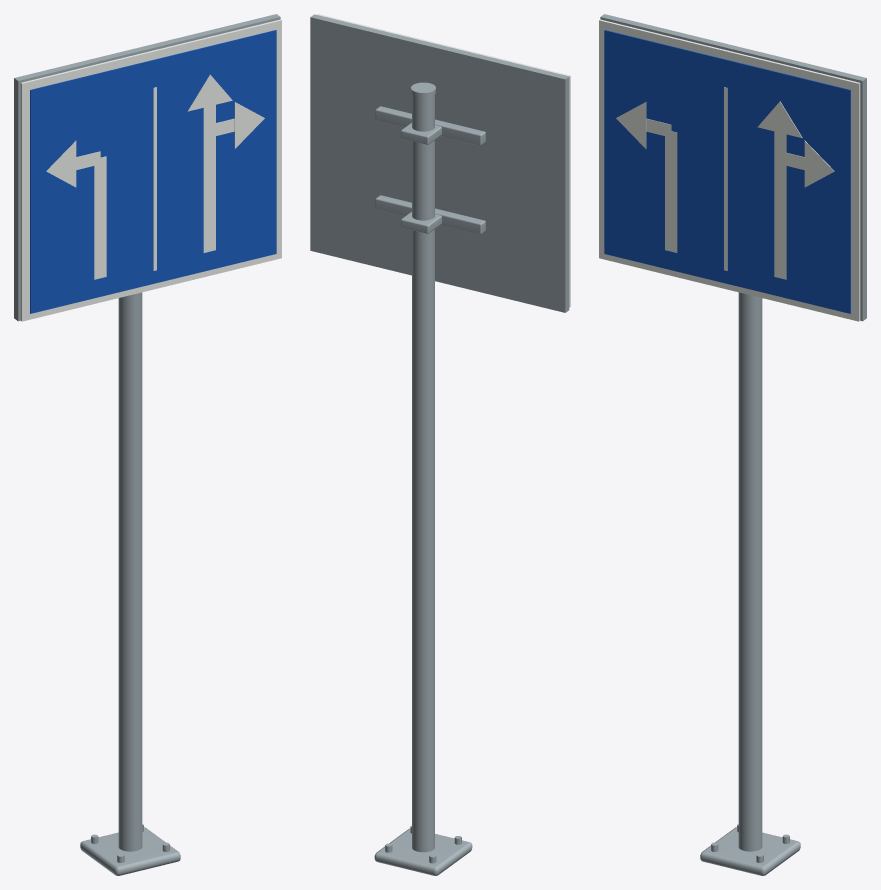
Rendered from DS_Sign_LaneDir_L_SR.fbx.
3 views of the same model, side by side, from view 1: azimuth 30°, elevation 25°; view 2: azimuth 150°, elevation 25°; view 3: azimuth 330°, elevation 25° (orthographic). The views are drawn at different scales.
Parts seen in each view (by area): view 1: Face_Field.020, Post.027, Face_Border.020, Plate_Back.035, BasePlate.027, LaneStem0, LaneStem0.001, ArrowHead.002, ArrowHead, ArrowHead.001, LaneDivider0; view 2: Plate_Back.035, Post.027, BasePlate.027, RearRail.058, RearRail.057, Face_Border.020, PostClamp.053, PostClamp.054; view 3: Face_Field.020, Post.027, Face_Border.020, Plate_Back.035, BasePlate.027, LaneStem0.001, LaneStem0, ArrowHead, ArrowHead.002, ArrowHead.001, LaneDivider0.
Part boxes in pixels (box(x1,y1,x2,y2)): Face_Field.020: box(30, 30, 276, 313); Post.027: box(118, 292, 142, 851); Face_Border.020: box(20, 19, 281, 321); Plate_Back.035: box(14, 14, 280, 321); BasePlate.027: box(80, 827, 180, 875); LaneStem0: box(94, 179, 106, 279); LaneStem0.001: box(203, 152, 215, 252); ArrowHead.002: box(234, 102, 264, 148); ArrowHead: box(46, 140, 76, 187); ArrowHead.001: box(187, 74, 232, 111); LaneDivider0: box(153, 87, 156, 270); Plate_Back.035: box(310, 14, 569, 312); Post.027: box(412, 94, 434, 852); BasePlate.027: box(374, 828, 472, 875); RearRail.058: box(375, 106, 485, 145); RearRail.057: box(375, 195, 485, 234); Face_Border.020: box(317, 14, 570, 307); PostClamp.053: box(401, 211, 441, 233); PostClamp.054: box(401, 122, 441, 144); Face_Field.020: box(604, 30, 850, 313); Post.027: box(738, 292, 762, 851); Face_Border.020: box(599, 19, 860, 321); Plate_Back.035: box(600, 14, 866, 321); BasePlate.027: box(700, 827, 800, 875); LaneStem0.001: box(774, 179, 786, 279); LaneStem0: box(665, 152, 677, 252); ArrowHead: box(616, 102, 646, 148); ArrowHead.002: box(804, 140, 834, 187); ArrowHead.001: box(757, 101, 802, 138); LaneDivider0: box(724, 87, 727, 270).
Bounding box in the file's own units: 96 × 287 × 28.
